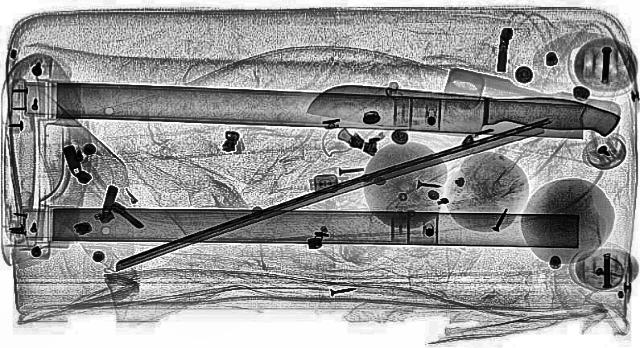Knife: (303, 80, 625, 144)
